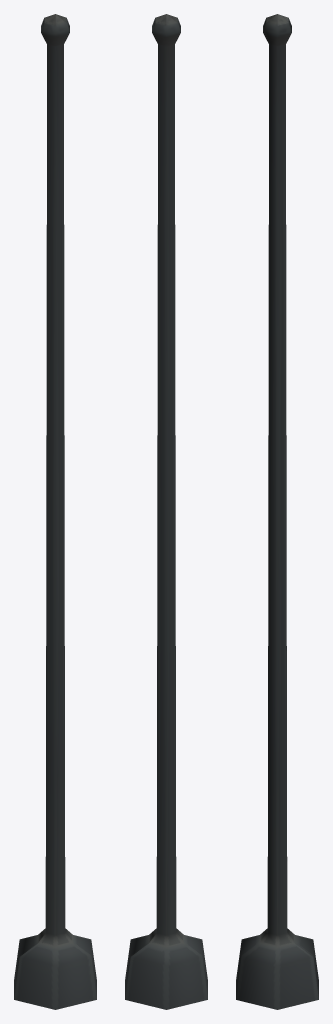
File: pirate_flag_pole_a.fbx
3 views of the same model, side by side, from view 1: azimuth 30°, elevation 25°; view 2: azimuth 210°, elevation 25°; view 3: azimuth 330°, elevation 25° (orthographic).
Parts seen in each view (by area): view 1: pirate_flag_pole_a; view 2: pirate_flag_pole_a; view 3: pirate_flag_pole_a.
Boxes of the visible parts, bbox=[...] form: pirate_flag_pole_a: bbox=[14, 14, 96, 1009]; pirate_flag_pole_a: bbox=[125, 14, 207, 1009]; pirate_flag_pole_a: bbox=[236, 14, 318, 1009].
Bounding box in the file's own units: 170 × 1910 × 147.
Materials: 1 (1 with a texture image).
